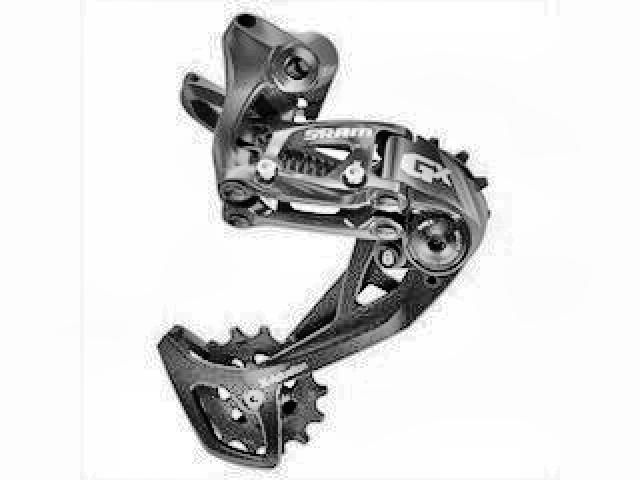rear_derailleur: (157, 9, 496, 475)
